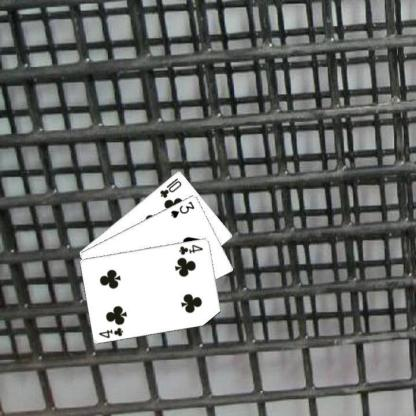10C: (157, 175, 183, 199)
3S: (168, 199, 196, 219)
4C: (176, 241, 205, 256), (96, 325, 125, 339)
